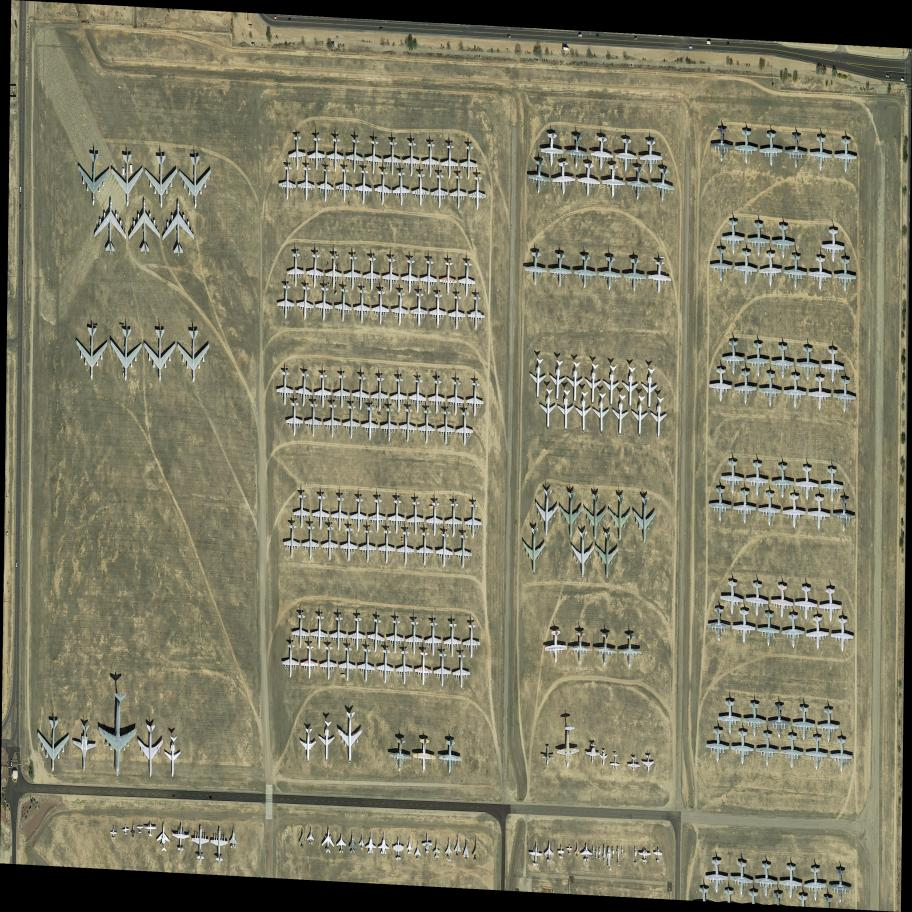plane: (96, 688, 139, 779), (36, 714, 71, 775), (74, 321, 108, 383), (161, 198, 195, 258), (143, 324, 177, 384), (109, 321, 142, 382), (144, 151, 178, 210), (178, 151, 211, 211), (77, 149, 111, 207), (110, 150, 143, 208), (128, 198, 161, 256), (177, 326, 210, 384), (94, 199, 127, 255), (70, 720, 99, 776), (336, 709, 364, 765), (138, 723, 164, 778), (559, 490, 584, 541), (584, 491, 608, 542), (571, 529, 595, 579), (596, 531, 620, 580), (522, 527, 547, 574), (609, 493, 632, 544), (535, 488, 559, 536), (633, 495, 656, 545), (794, 463, 821, 505), (556, 720, 579, 769), (832, 374, 858, 417), (745, 217, 771, 260), (743, 579, 770, 620), (575, 159, 602, 200), (831, 494, 857, 535), (719, 578, 745, 619), (704, 725, 730, 766), (754, 729, 780, 770), (703, 857, 729, 898), (527, 156, 553, 197), (651, 165, 677, 206), (793, 584, 819, 624), (820, 346, 846, 386), (827, 866, 853, 906), (753, 861, 779, 901), (593, 629, 619, 669), (820, 226, 846, 266), (647, 257, 673, 297), (622, 255, 648, 295), (829, 735, 854, 776), (729, 858, 754, 899), (540, 130, 565, 171), (783, 250, 808, 291), (806, 494, 832, 533), (708, 366, 734, 405), (807, 255, 833, 294), (613, 136, 639, 175), (597, 254, 623, 293), (412, 736, 437, 776), (756, 609, 781, 649), (820, 465, 845, 505), (770, 460, 795, 500), (744, 460, 769, 500), (720, 458, 745, 498), (779, 863, 804, 903), (795, 343, 820, 383), (758, 130, 783, 170), (705, 606, 732, 643), (731, 608, 757, 646), (803, 735, 829, 773), (708, 127, 734, 165), (564, 133, 590, 171), (610, 392, 631, 439), (809, 132, 833, 173), (805, 613, 830, 652), (830, 615, 855, 654), (770, 343, 795, 382), (742, 701, 767, 740), (833, 136, 858, 175), (771, 222, 796, 261), (733, 249, 758, 288), (590, 134, 615, 173), (639, 137, 664, 176), (601, 162, 626, 201), (366, 610, 387, 656), (721, 217, 745, 257), (388, 737, 413, 775), (438, 738, 463, 776), (818, 586, 843, 624), (717, 699, 742, 737), (730, 729, 755, 767), (733, 129, 758, 167), (770, 583, 794, 622), (792, 704, 816, 743), (767, 703, 791, 742), (780, 732, 804, 771), (524, 249, 548, 288), (627, 164, 651, 203), (782, 374, 807, 411), (618, 632, 643, 669), (551, 159, 576, 196), (757, 490, 781, 528), (746, 341, 770, 379), (721, 339, 745, 377), (758, 372, 782, 410), (803, 865, 827, 903), (833, 257, 857, 295), (784, 132, 808, 170), (708, 246, 732, 284), (549, 251, 573, 289), (291, 606, 311, 651), (334, 280, 354, 325), (305, 245, 325, 290), (602, 364, 622, 409), (708, 486, 732, 523), (311, 488, 331, 532), (438, 254, 458, 298), (351, 368, 371, 412), (354, 162, 374, 206), (759, 250, 782, 288), (574, 253, 597, 291), (781, 613, 805, 649), (733, 370, 757, 406), (425, 495, 445, 538), (338, 640, 358, 683), (465, 376, 485, 419), (313, 367, 333, 410), (281, 636, 300, 681), (296, 278, 315, 323), (528, 357, 547, 402), (566, 361, 585, 406), (584, 362, 603, 407), (817, 707, 840, 744), (733, 488, 756, 525), (569, 629, 592, 666), (549, 358, 567, 405), (282, 518, 302, 560), (782, 495, 806, 530), (357, 640, 376, 684), (285, 395, 304, 439), (315, 279, 334, 323), (276, 278, 295, 322), (382, 251, 401, 295), (402, 135, 421, 179), (428, 372, 447, 416), (437, 403, 456, 447), (342, 397, 361, 441), (297, 159, 316, 203), (210, 825, 229, 869), (592, 392, 611, 436), (556, 388, 575, 432), (808, 376, 831, 412), (544, 629, 567, 665), (190, 824, 210, 865), (310, 608, 329, 651), (331, 490, 350, 533), (406, 494, 425, 537), (358, 521, 377, 564), (419, 253, 438, 296), (307, 130, 326, 173), (327, 130, 346, 173), (362, 250, 381, 293), (346, 131, 365, 174), (370, 370, 389, 413), (392, 165, 411, 208), (278, 159, 297, 202), (300, 636, 318, 681), (650, 396, 668, 441), (631, 394, 649, 439), (622, 365, 640, 410), (640, 367, 658, 412), (400, 256, 420, 296), (386, 613, 405, 655), (462, 617, 481, 659), (377, 523, 396, 565), (457, 256, 476, 298), (467, 290, 486, 332), (389, 372, 408, 414), (330, 608, 348, 652), (452, 646, 470, 690), (369, 491, 387, 535), (388, 492, 406, 536), (293, 486, 311, 530), (353, 282, 371, 326), (460, 138, 478, 182), (336, 160, 354, 204), (454, 528, 473, 569), (391, 287, 410, 328), (361, 402, 380, 443), (424, 615, 442, 658), (433, 646, 451, 689), (415, 644, 433, 687), (377, 642, 395, 685), (350, 491, 368, 534), (318, 720, 336, 763), (372, 283, 390, 326), (305, 396, 323, 439), (287, 245, 305, 288), (325, 248, 343, 291), (344, 249, 362, 292), (365, 133, 383, 176), (447, 374, 465, 417), (456, 404, 474, 447), (418, 402, 436, 445), (380, 400, 398, 443), (323, 396, 341, 439), (333, 367, 351, 410), (441, 137, 459, 180), (276, 365, 294, 408), (374, 164, 392, 207), (288, 131, 307, 171), (294, 371, 314, 409), (405, 614, 423, 656), (395, 644, 413, 686), (302, 519, 320, 561), (321, 520, 339, 562), (445, 497, 463, 539), (435, 526, 453, 568), (340, 521, 358, 563), (448, 289, 466, 331), (429, 289, 447, 331), (384, 135, 402, 177), (399, 402, 417, 444), (412, 166, 430, 208), (422, 136, 440, 178), (431, 168, 449, 210), (164, 734, 181, 778), (444, 617, 462, 658), (464, 498, 482, 539), (416, 526, 434, 567), (397, 525, 415, 566), (409, 373, 427, 414), (469, 169, 486, 212), (316, 167, 335, 205), (349, 612, 367, 652), (575, 389, 591, 434), (411, 286, 428, 328), (450, 169, 467, 211), (540, 388, 556, 432), (170, 823, 190, 858), (319, 644, 337, 681), (300, 727, 317, 764), (528, 840, 544, 868), (321, 826, 336, 855), (157, 821, 170, 853), (585, 742, 601, 766), (540, 745, 556, 769), (365, 831, 377, 854), (378, 832, 390, 855), (642, 753, 655, 774), (347, 828, 357, 855), (393, 837, 404, 861), (580, 843, 593, 862), (336, 832, 347, 854), (627, 756, 641, 773), (444, 837, 453, 863), (471, 838, 480, 863), (638, 848, 652, 864), (144, 821, 157, 838), (422, 834, 433, 854), (544, 841, 554, 863), (462, 837, 471, 861), (229, 826, 238, 850), (609, 754, 621, 771), (454, 835, 462, 858), (298, 826, 306, 849), (653, 848, 664, 864), (433, 838, 441, 859), (599, 749, 608, 767), (414, 841, 422, 861), (307, 828, 315, 846), (109, 824, 118, 840), (406, 836, 413, 855), (557, 843, 565, 859), (358, 833, 365, 851), (122, 824, 130, 836), (566, 843, 573, 856), (575, 842, 580, 859), (131, 821, 136, 838), (137, 823, 143, 834)
small-vehicle: (595, 34, 601, 39), (688, 45, 693, 50), (885, 75, 891, 79), (707, 40, 711, 45), (273, 16, 278, 20), (172, 794, 176, 798), (11, 759, 13, 767), (19, 204, 21, 212), (251, 42, 255, 46), (634, 37, 639, 40), (288, 17, 291, 22), (20, 186, 22, 193), (16, 561, 18, 568), (901, 78, 905, 81), (209, 797, 212, 800)
